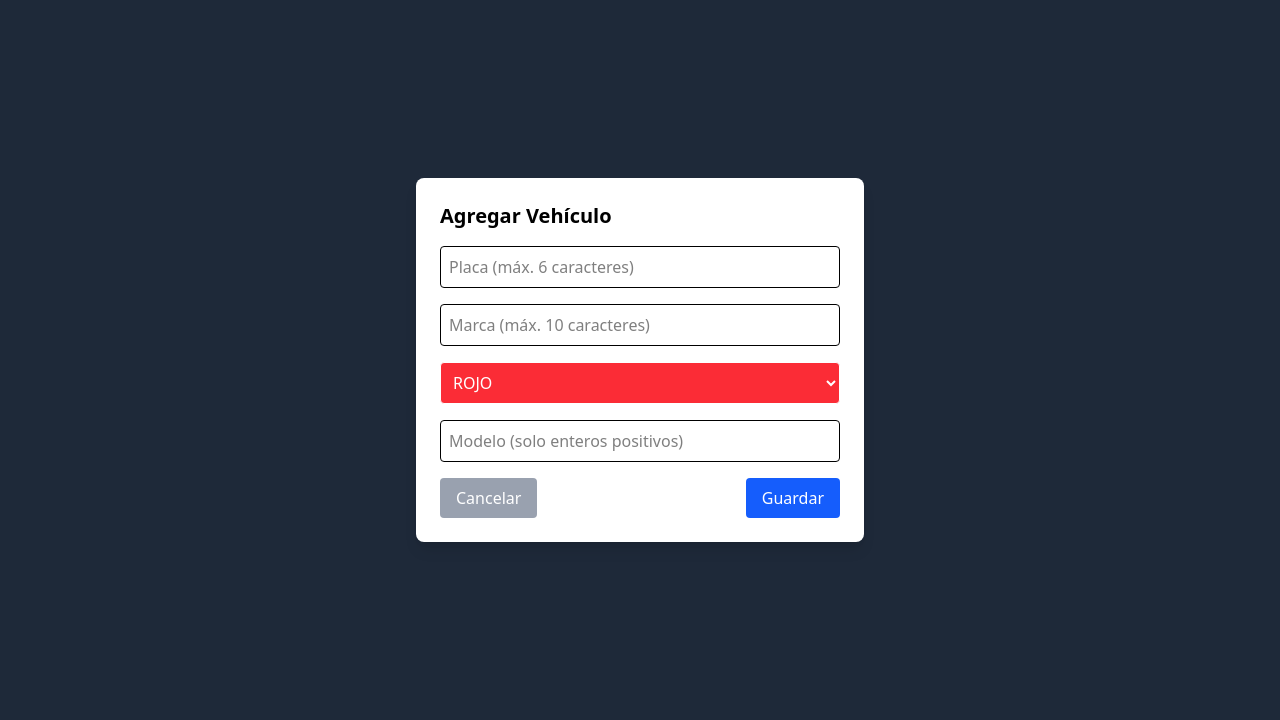
Test: AddVehicle Component - validateForm › shows an error if 'modelo' is not a positive integer
The image size is (1280, 720).
Type "ABC123" into the field with placeholder "Placa (máx. 6 caracteres)". click: (640, 267)
box: [440,246,840,288]
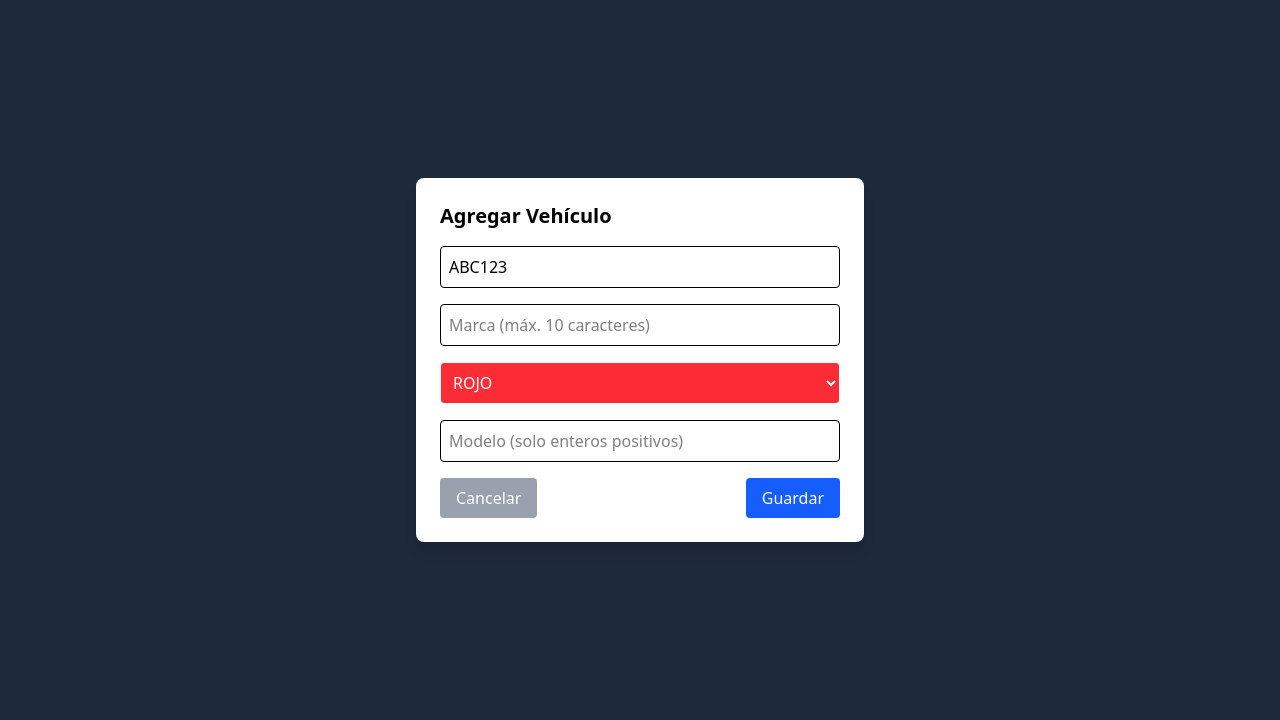
Type "Toyota" into the field with placeholder "Marca (máx. 10 caracteres)". click: (640, 325)
box: [440,304,840,346]
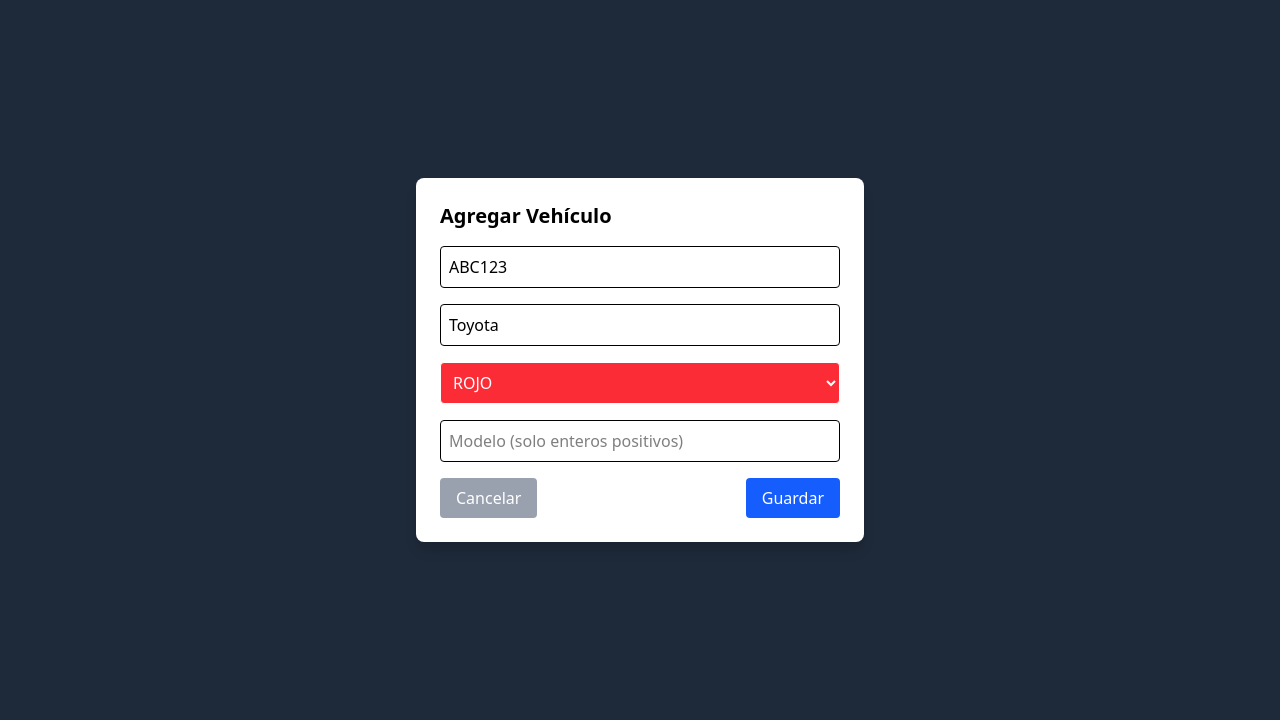
Type "-2020" into the number field with placeholder "Modelo (solo enteros positivos)". click: (640, 441)
box: [440,420,840,462]
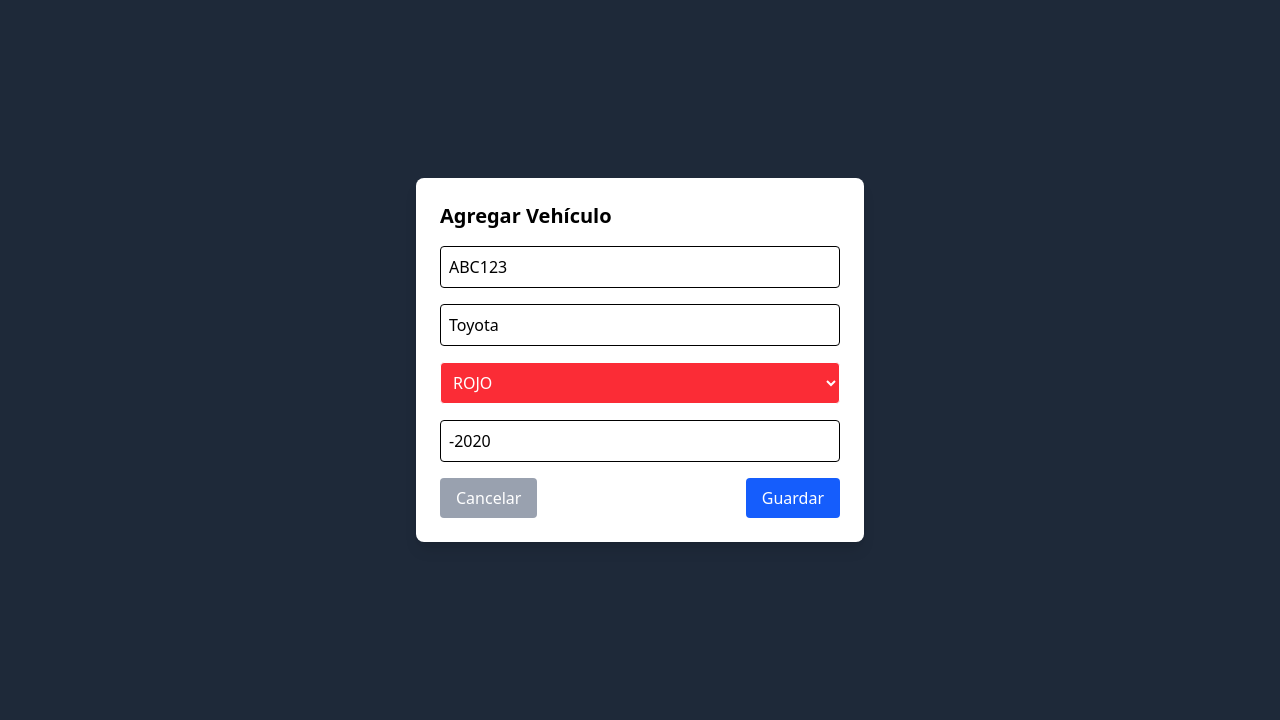
Click the button "Guardar". click: (793, 498)
box: [746,478,840,518]
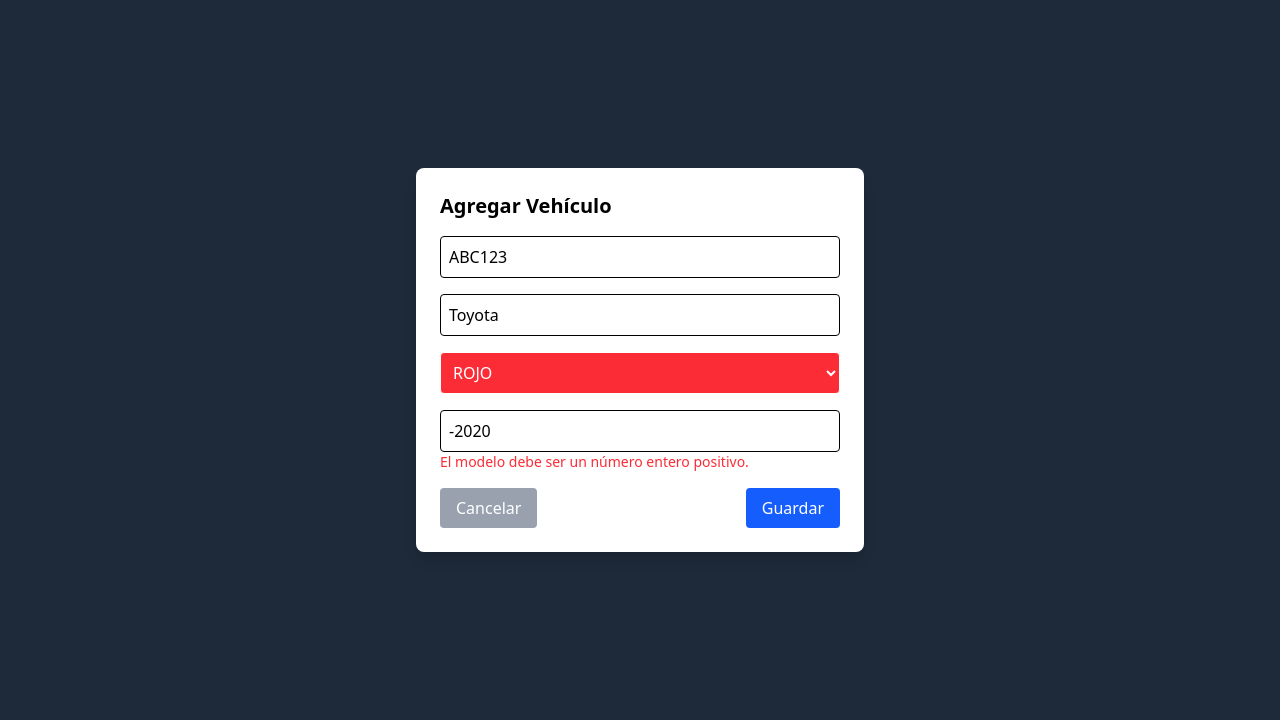
Check: the text "El modelo debe ser un número entero positivo." is shown, box [440,452,749,471]
